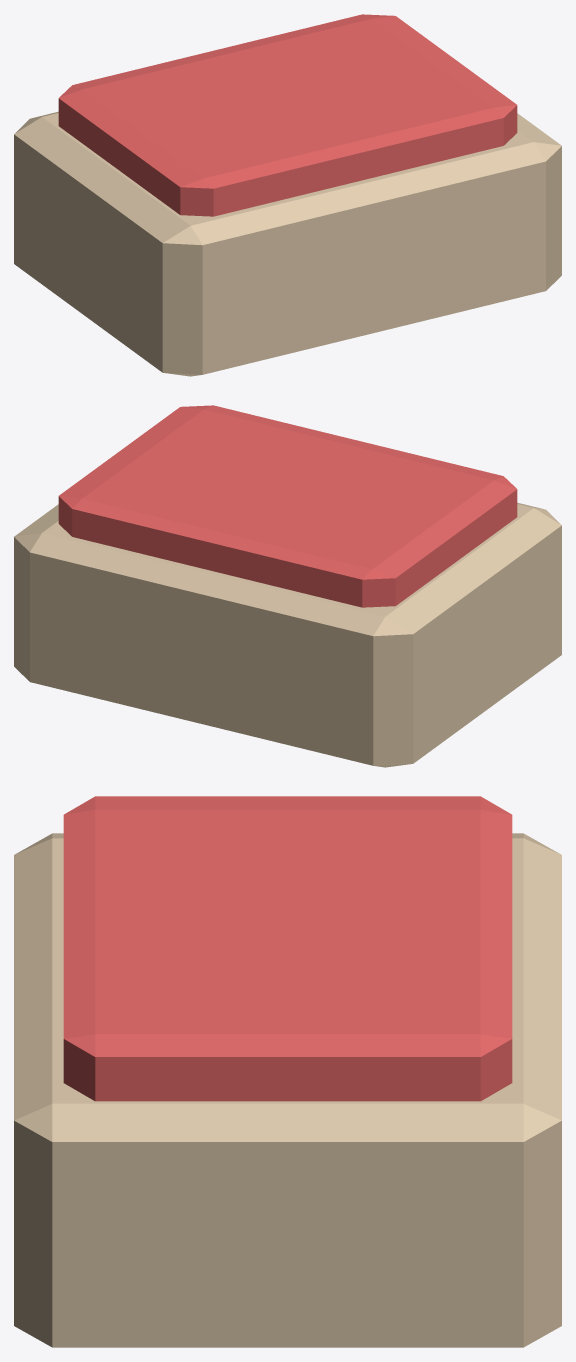
Rendered from b16_street_taco_in_wrapper.glb.
3 views of the same model, one above another, from view 1: azimuth 30°, elevation 25°; view 2: azimuth 150°, elevation 25°; view 3: azimuth 270°, elevation 25° (orthographic). The views are drawn at different scales.
Parts seen in each view (by area): view 1: b16_street_taco_in_wrapper; view 2: b16_street_taco_in_wrapper; view 3: b16_street_taco_in_wrapper.
Part boxes in pixels (x1=…): b16_street_taco_in_wrapper: x1=14, y1=14, x2=561, y2=376; b16_street_taco_in_wrapper: x1=14, y1=405, x2=561, y2=767; b16_street_taco_in_wrapper: x1=14, y1=796, x2=561, y2=1347.
Bounding box in the file's own units: 0.184 × 0.08 × 0.138.
